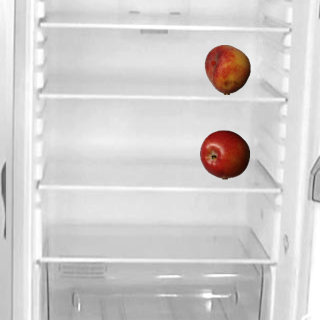Apple Braeburn: (199, 129, 249, 179)
Peach: (202, 44, 252, 94)
